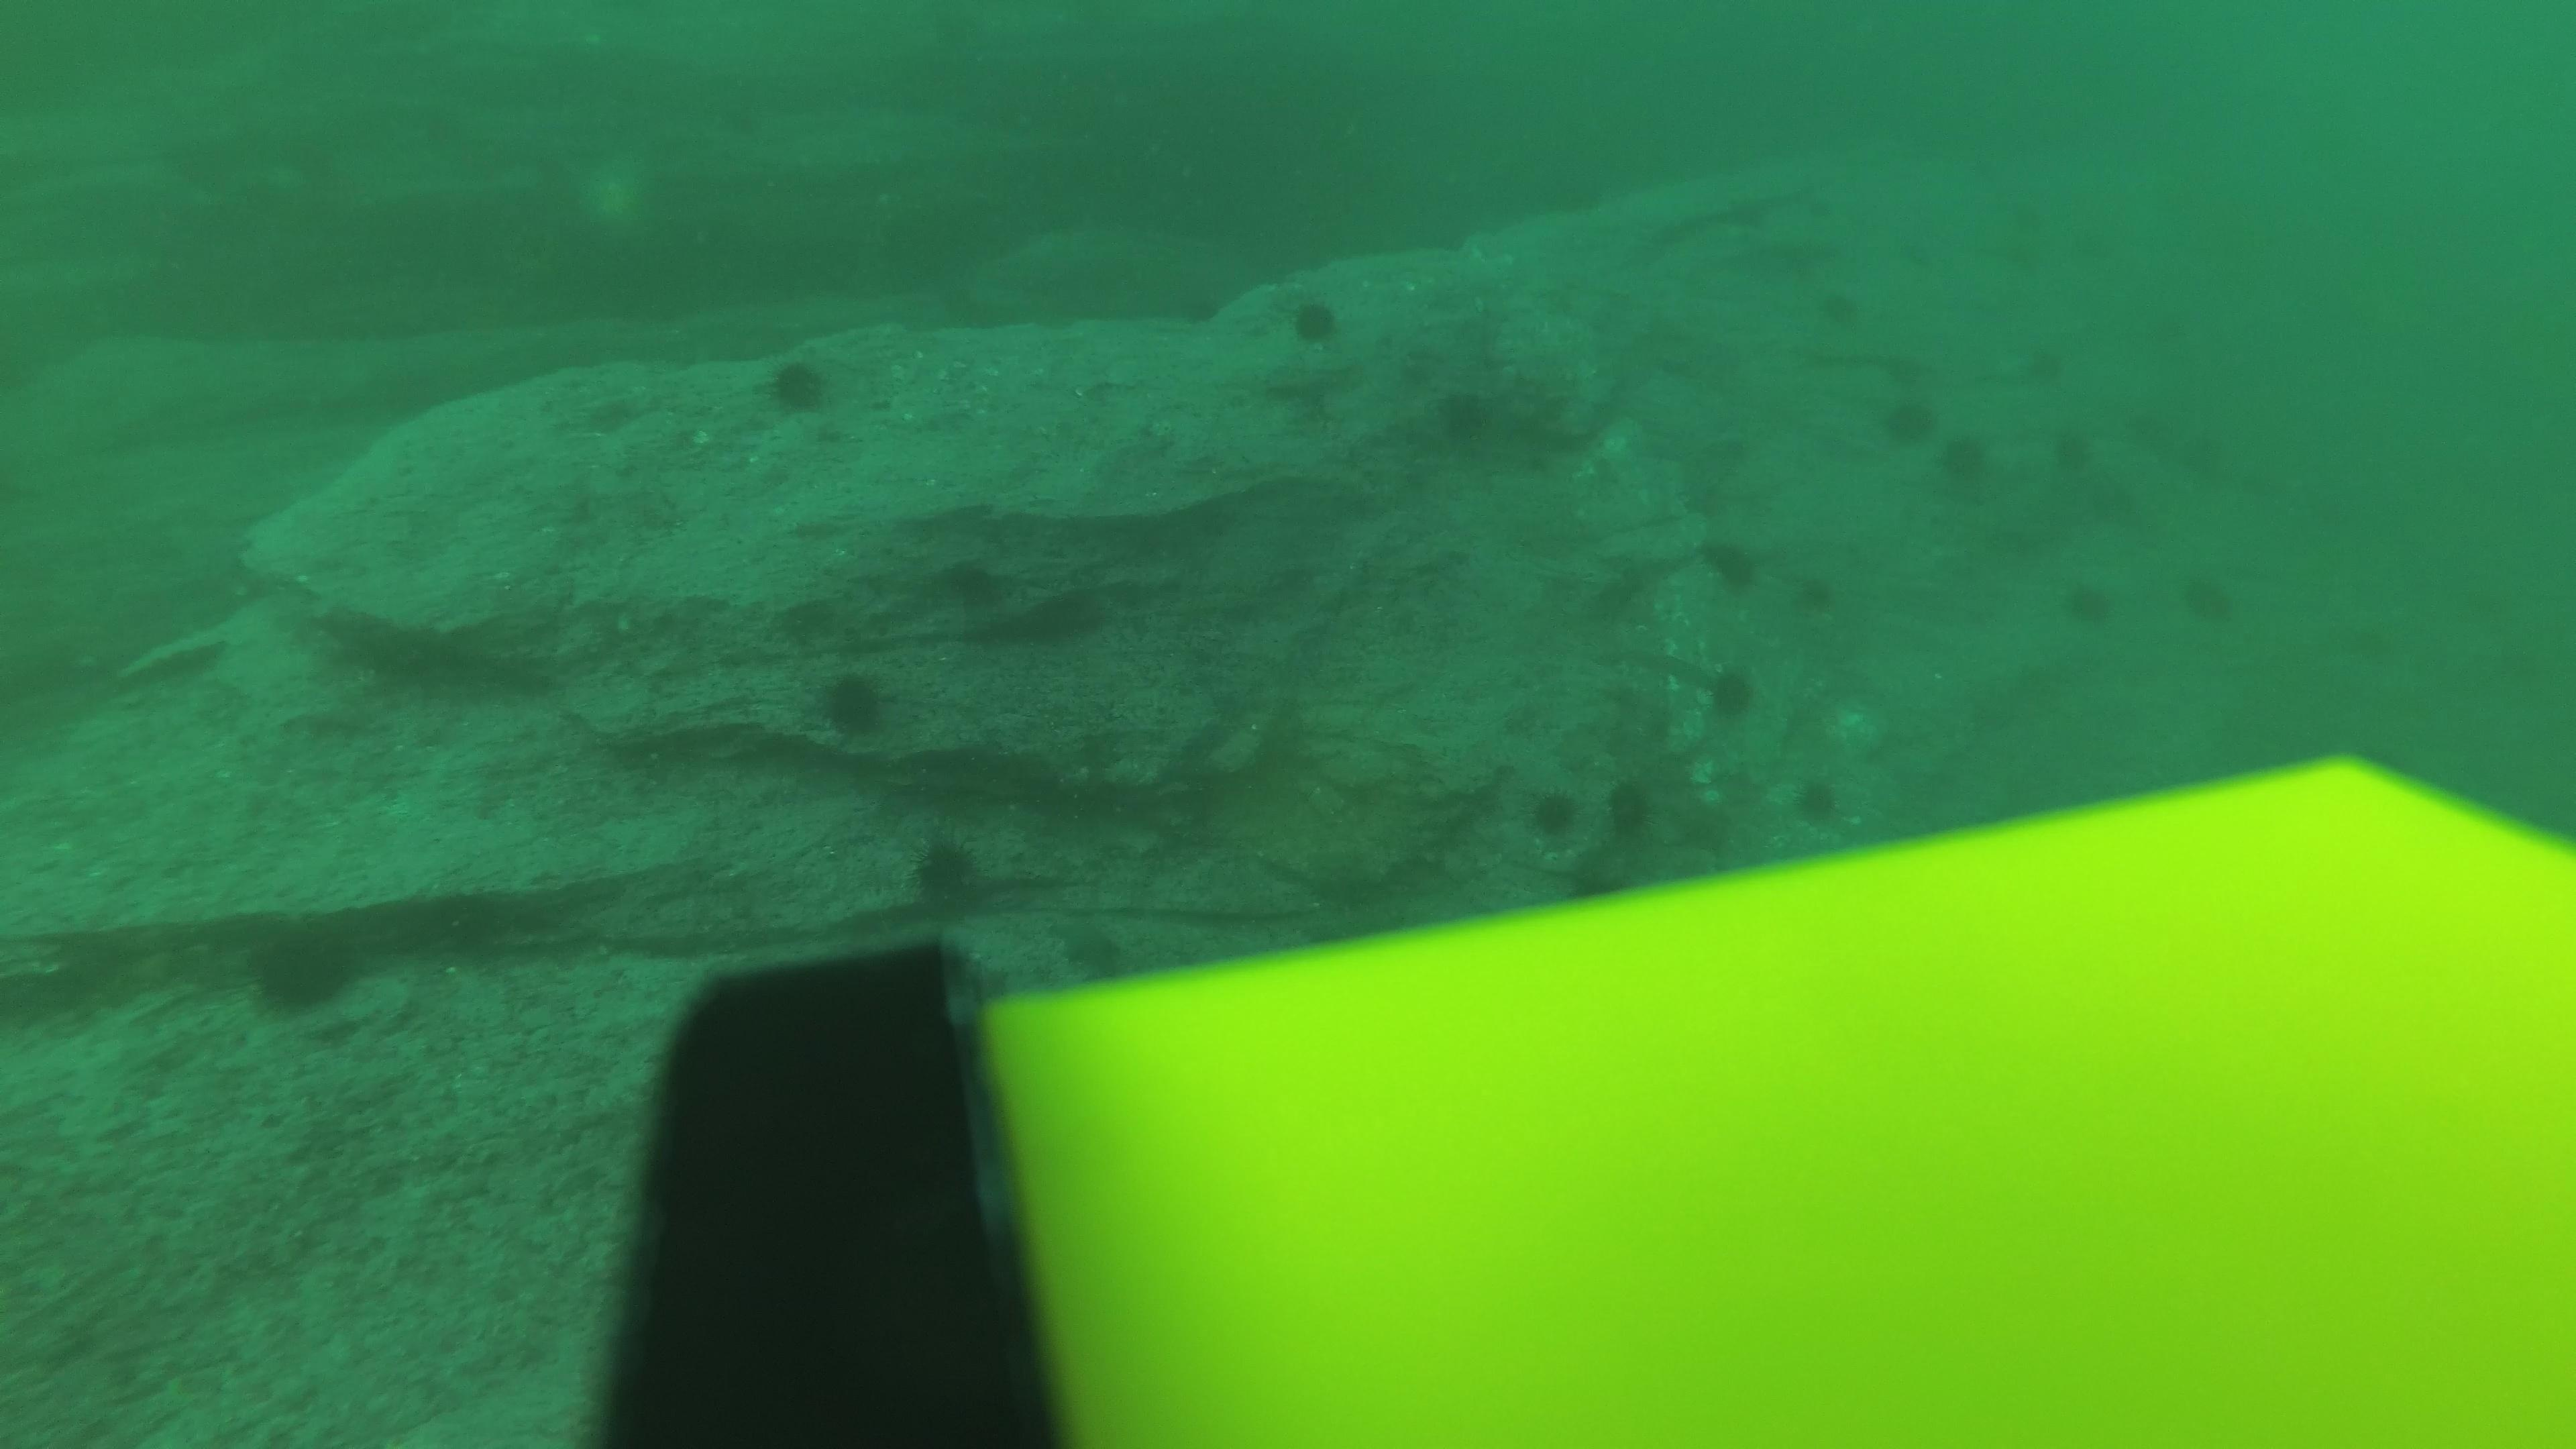echinus: (241, 916, 368, 1019), (902, 832, 991, 915), (809, 663, 901, 743), (755, 349, 840, 419), (1430, 384, 1502, 455), (1697, 531, 1766, 598), (1704, 179, 1771, 246), (1930, 428, 1996, 495), (2036, 419, 2102, 487), (2019, 338, 2084, 405), (1789, 550, 1854, 617), (1808, 269, 1874, 336), (1599, 775, 1660, 847), (936, 552, 1008, 610), (2178, 564, 2242, 630), (1877, 389, 1941, 451), (1523, 782, 1583, 846), (1284, 290, 1346, 350), (1702, 660, 1760, 724), (1789, 771, 1849, 832), (1182, 283, 1242, 343), (2058, 573, 2118, 632)
